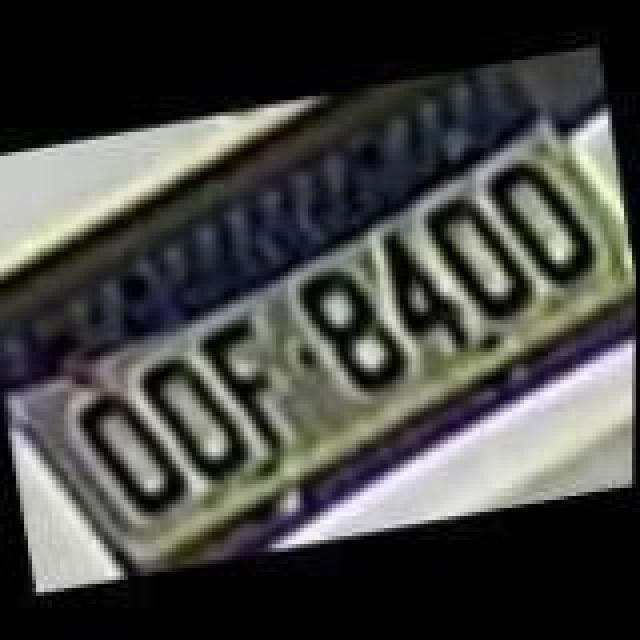4: (376, 214, 480, 374)
8: (290, 248, 414, 404)
F: (190, 316, 298, 464)
O: (134, 334, 258, 494), (416, 178, 540, 330), (74, 378, 194, 534), (482, 146, 602, 294)
